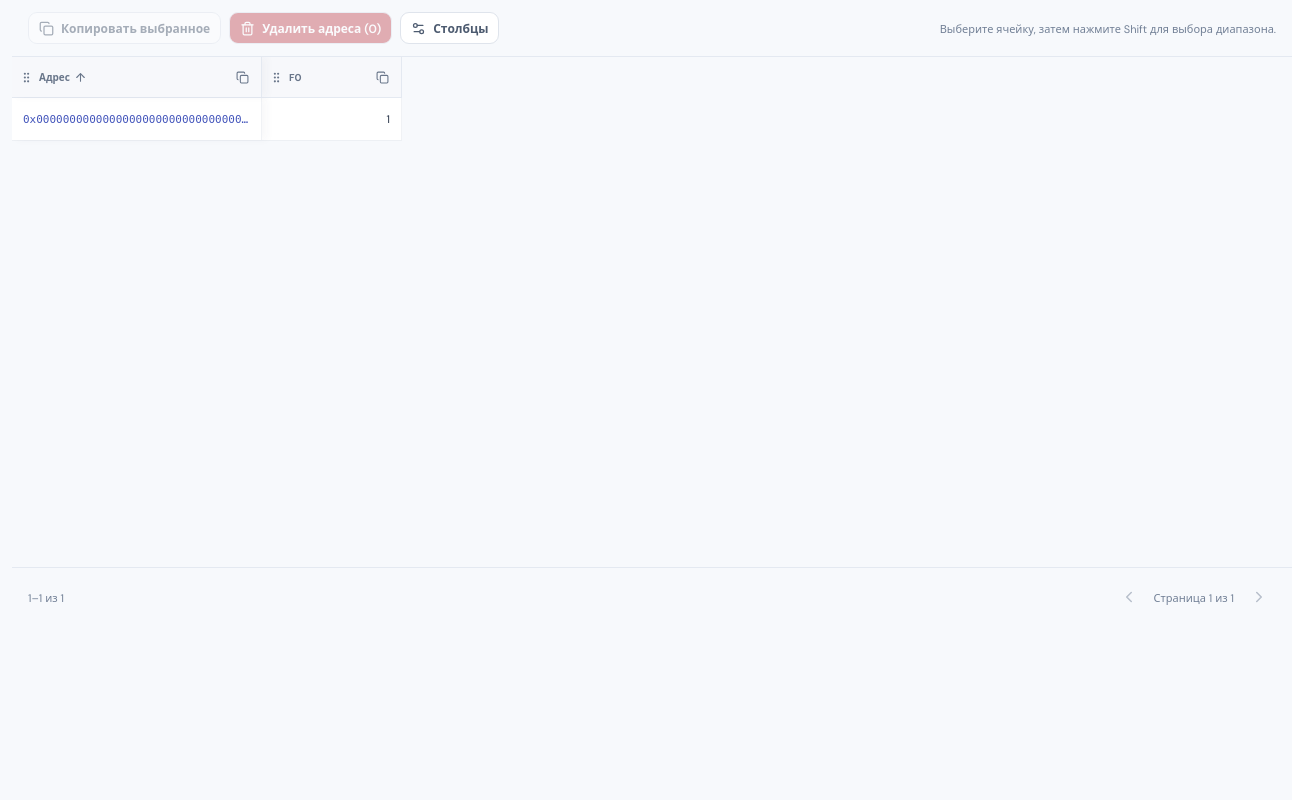
Test: FeatureTable › copies the address and shows a toast on address cell click
This screenshot has width=1292, height=800.
Click the cell with class "address-cell". click: (137, 119)
box: top-left (12, 98), bottom-right (262, 140)
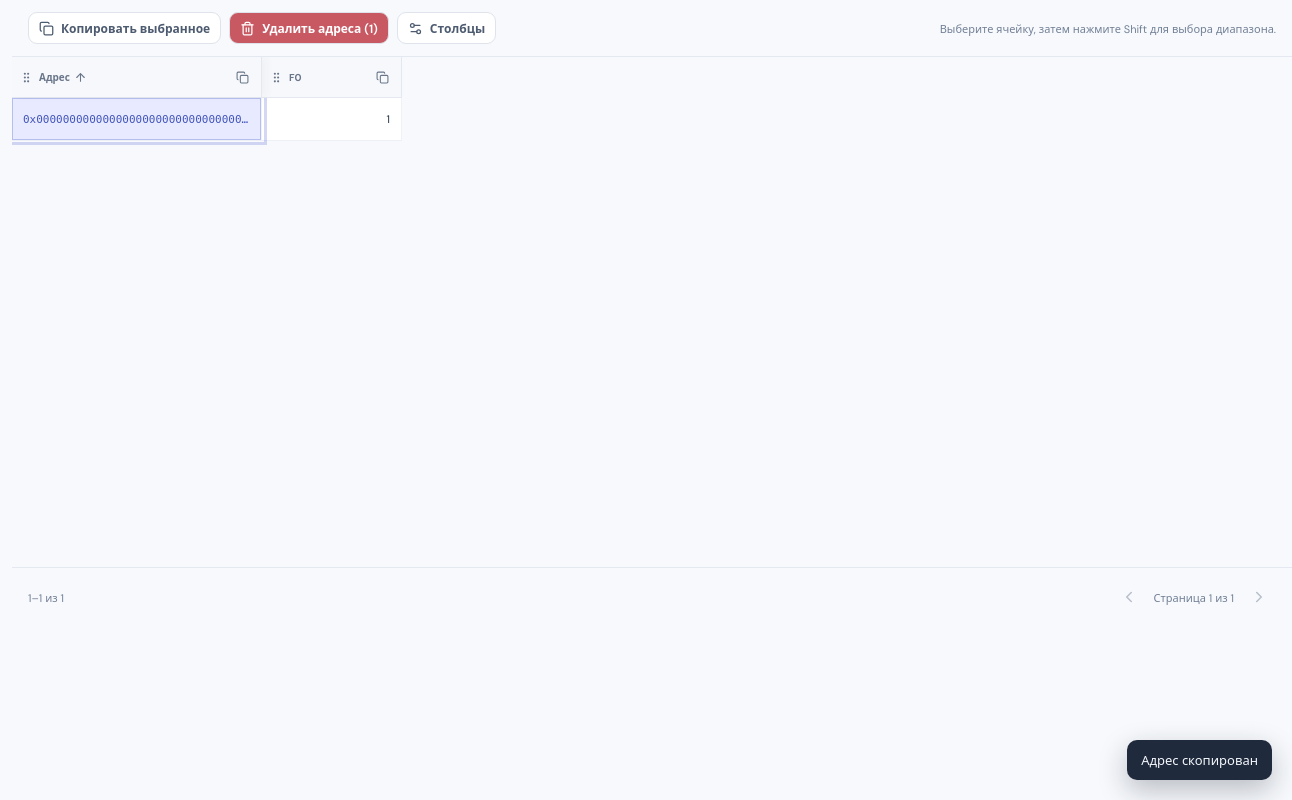
Expected: the message reads "Адрес скопирован", top-left (1141, 752), bottom-right (1258, 769)
